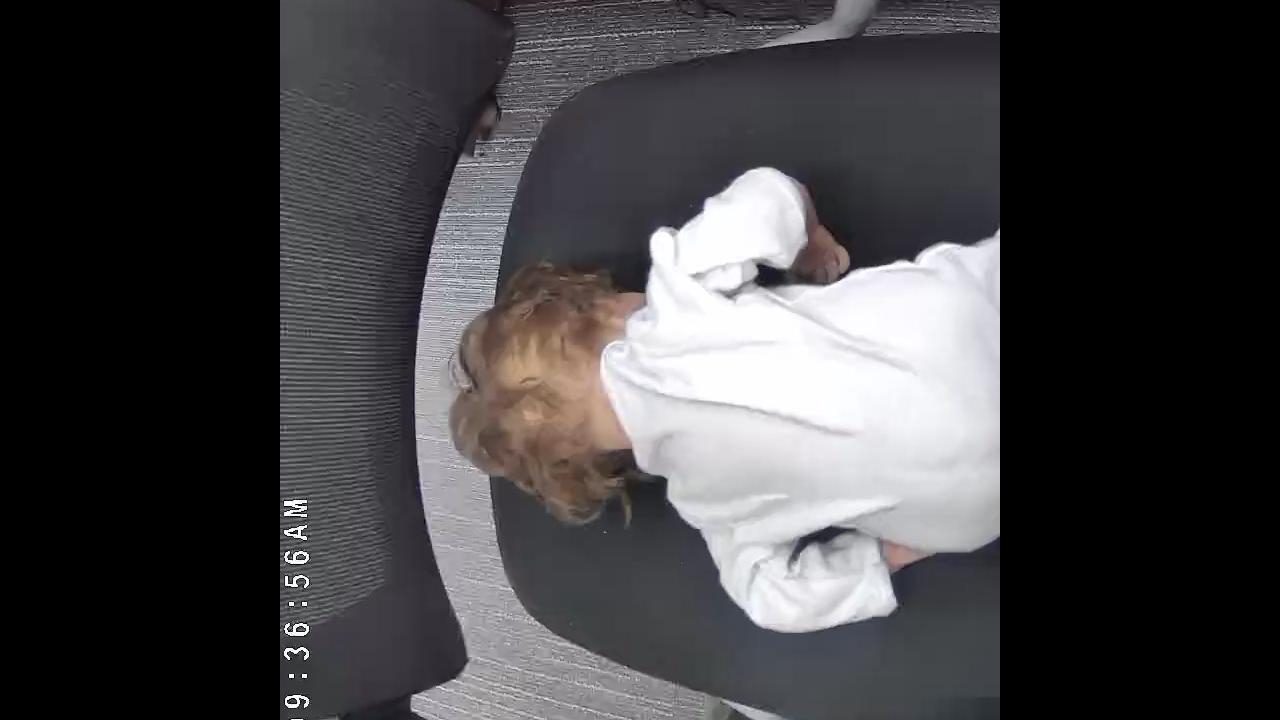hand: (790, 217, 851, 283)
